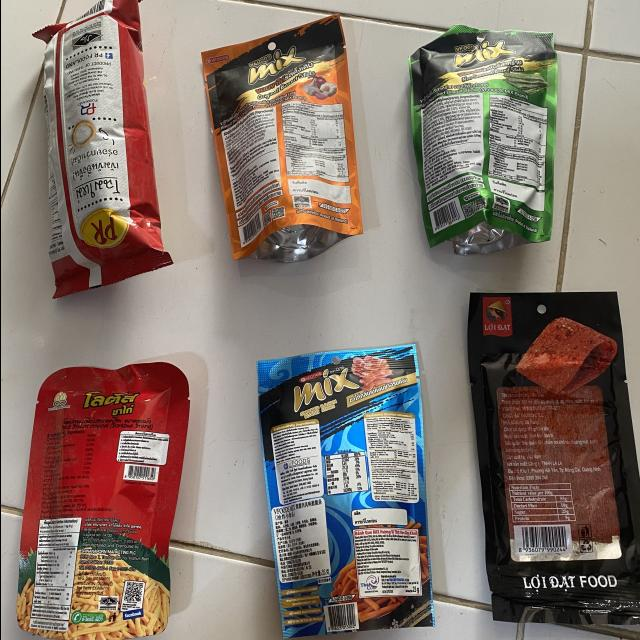plastik: (467, 293, 640, 625), (256, 345, 433, 639), (16, 362, 188, 640), (32, 0, 171, 298), (200, 15, 362, 262), (408, 26, 556, 255)
